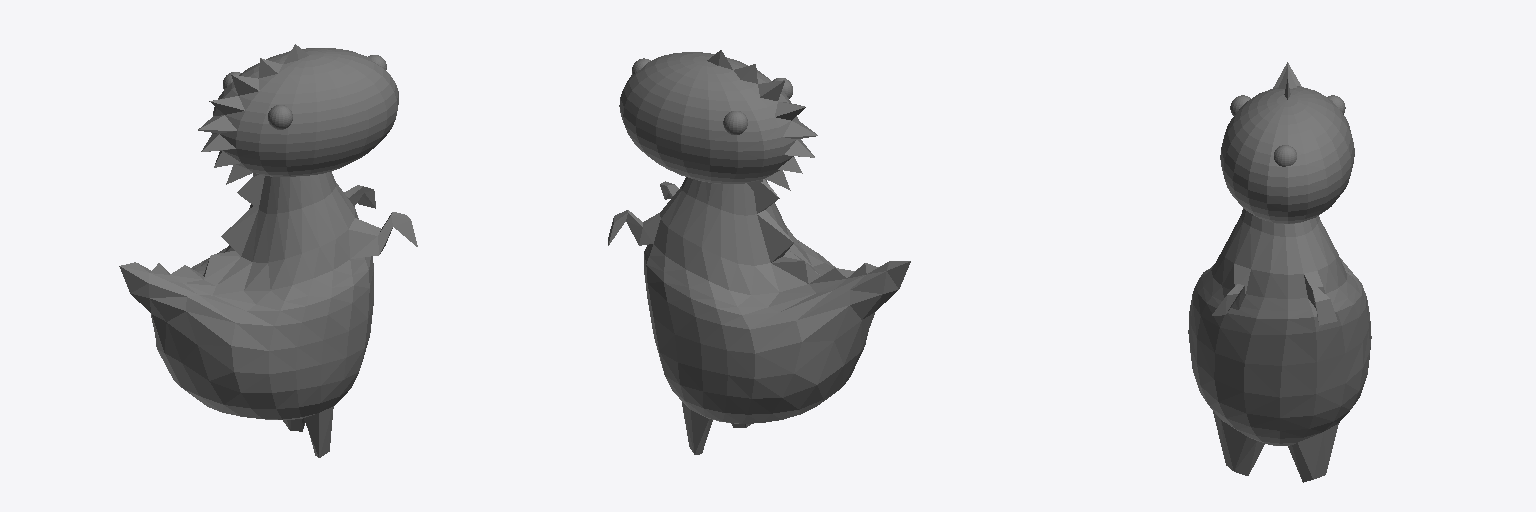
The model's file is dinosauro.obj.
3 views of the same model, side by side, from view 1: azimuth 30°, elevation 25°; view 2: azimuth 150°, elevation 25°; view 3: azimuth 270°, elevation 25° (orthographic).
Visible parts, largest first — view 1: pasted__group1_pasted__pSphere3_pasted__polySurface4; view 2: pasted__group1_pasted__pSphere3_pasted__polySurface4; view 3: pasted__group1_pasted__pSphere3_pasted__polySurface4.
Boxes of the visible parts, x1,y1,x2,y2 form: pasted__group1_pasted__pSphere3_pasted__polySurface4: [119, 44, 417, 457]; pasted__group1_pasted__pSphere3_pasted__polySurface4: [608, 50, 910, 454]; pasted__group1_pasted__pSphere3_pasted__polySurface4: [1188, 62, 1371, 482].
Bounding box in the file's own units: 0.4008 × 0.5441 × 0.2272.